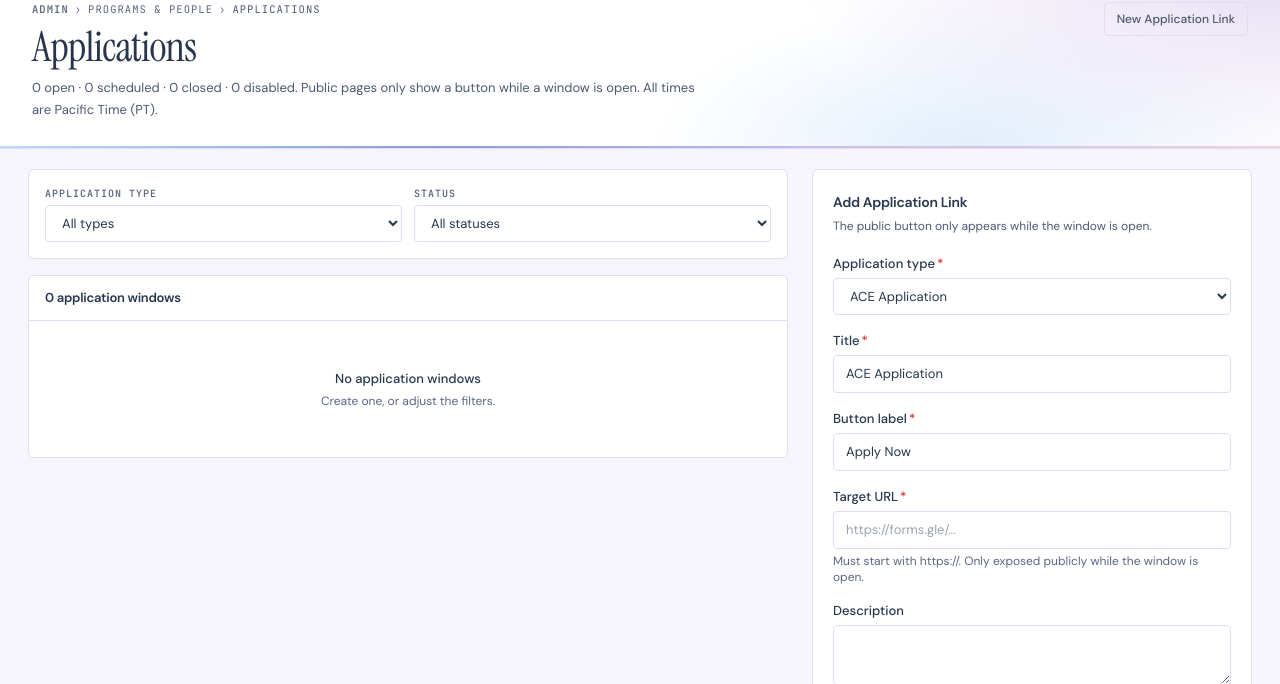
Applications link form › puts a server window-constraint rejection on the due date field and keeps the values
In the field labelled "Target URL*": coordinates (1032, 530) [833,511,1231,549], type "https://forms.gle/abc"
(page scrolled)
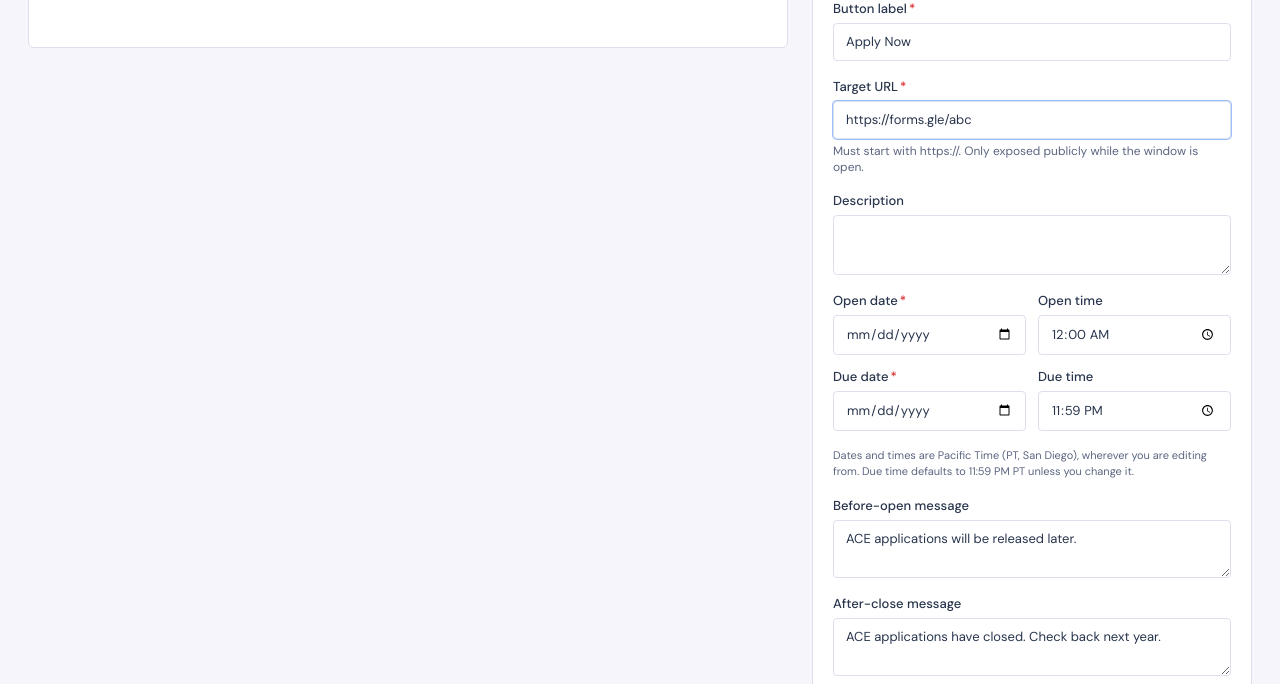
In the date field labelled "Open date*": coordinates (930, 335) [833,315,1026,355], type "2026-10-01"
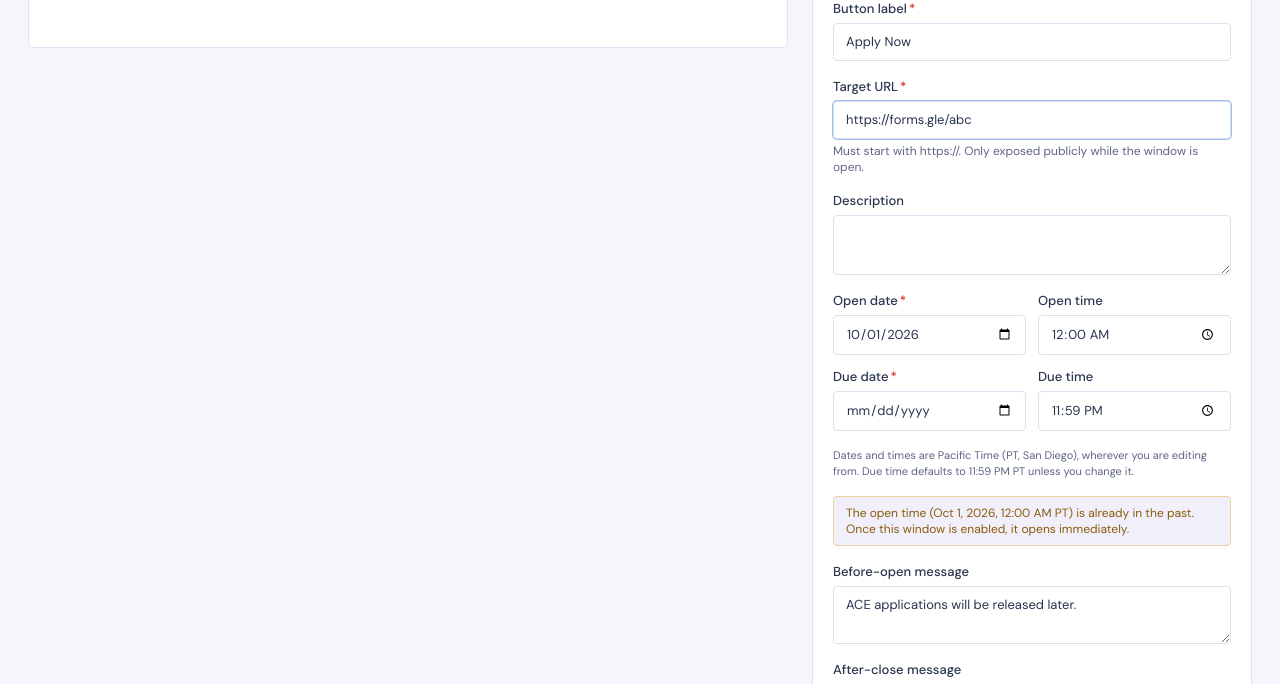
In the date field labelled "Due date*": coordinates (930, 411) [833,391,1026,431], type "2026-10-15"
(page scrolled)
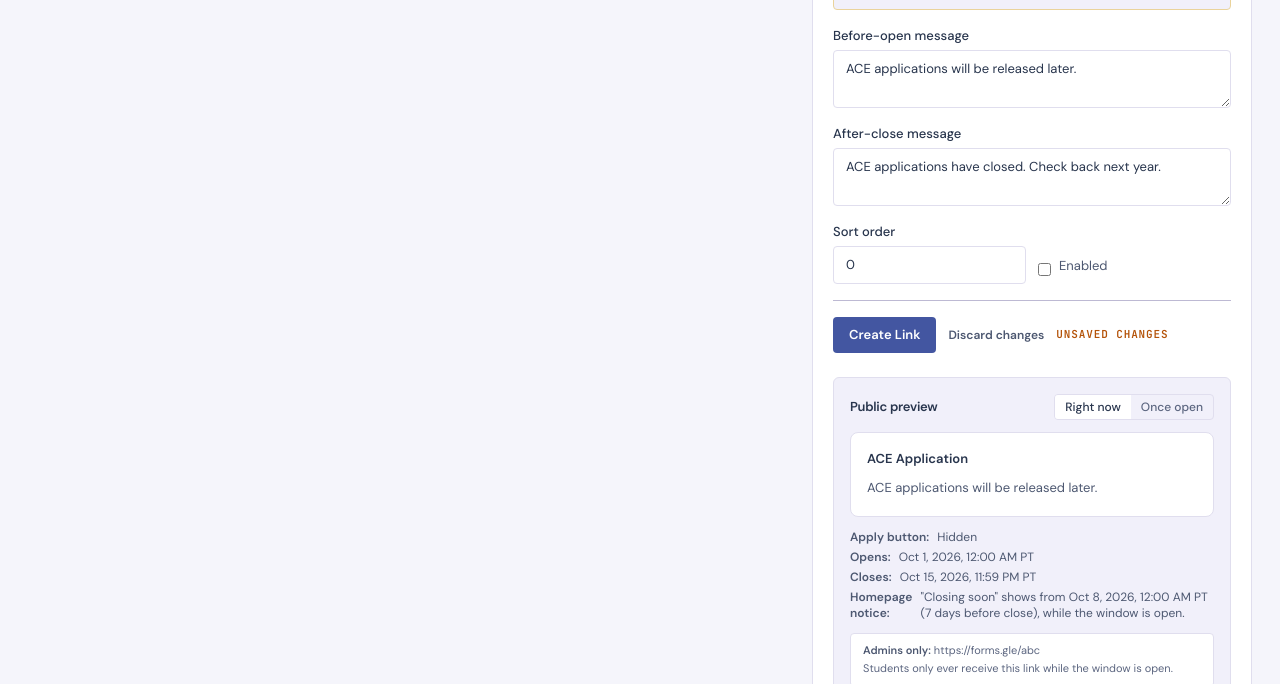
Click the button "Create Link": coordinates (885, 335) [833,317,936,353]
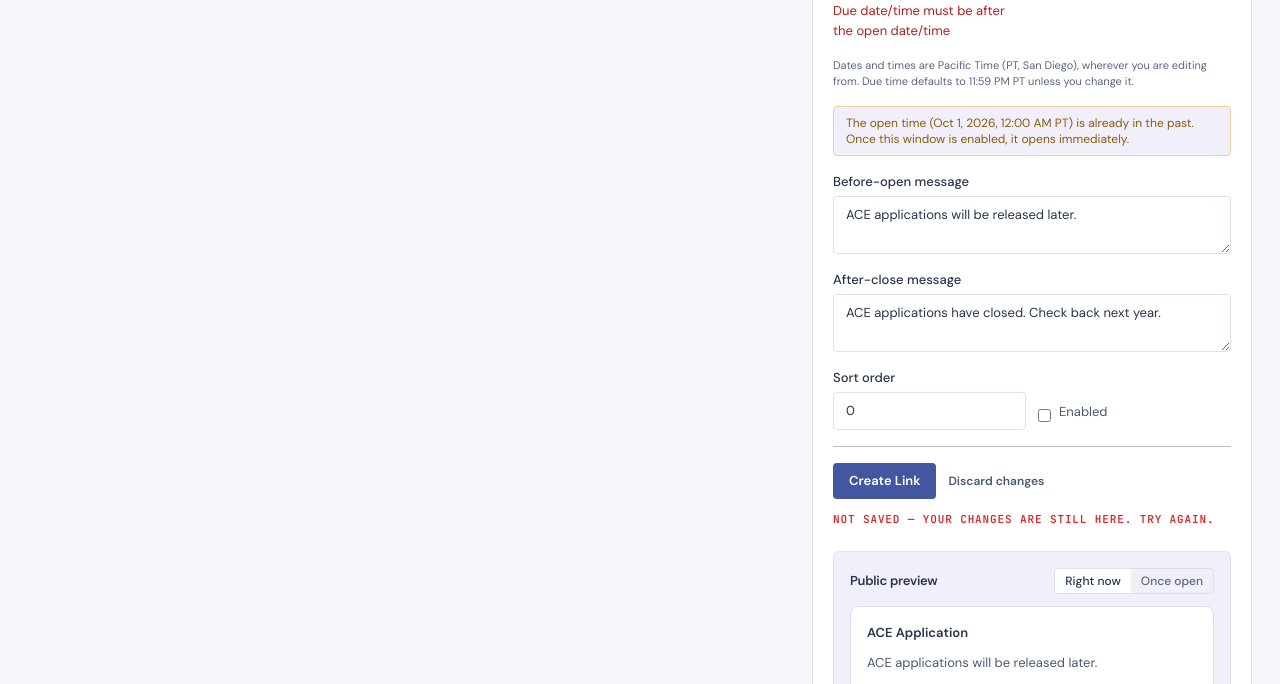
Check: the text "Not saved — your changes are still here. Try again." is shown, box [833,511,1214,527]
